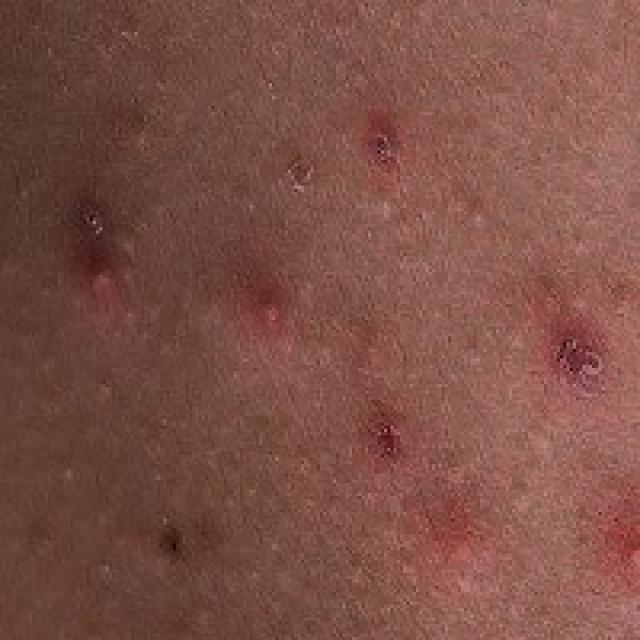acne: (35, 150, 154, 314), (515, 304, 634, 422), (112, 496, 240, 592), (221, 252, 333, 346), (346, 396, 438, 474), (352, 102, 426, 182)
